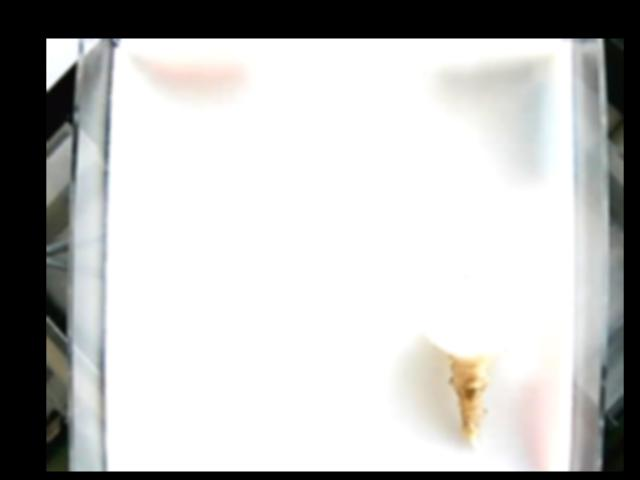Mooli: (422, 314, 517, 452)
